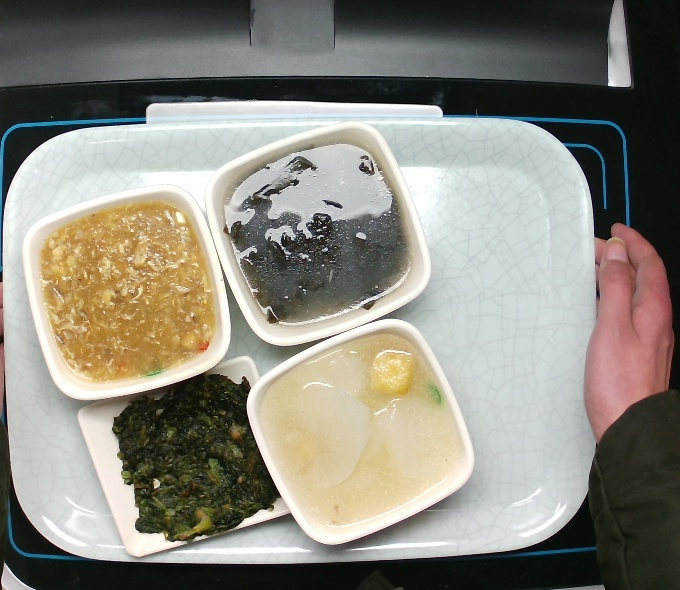wcq-HaiDaiPaiGuTang: (243, 156, 413, 315)
wcq-LuoBoYouPaoTang: (265, 341, 458, 531)
wcq-QinCaiBing: (115, 385, 266, 531)
wcq-SuanLaGeng: (47, 225, 201, 360)
